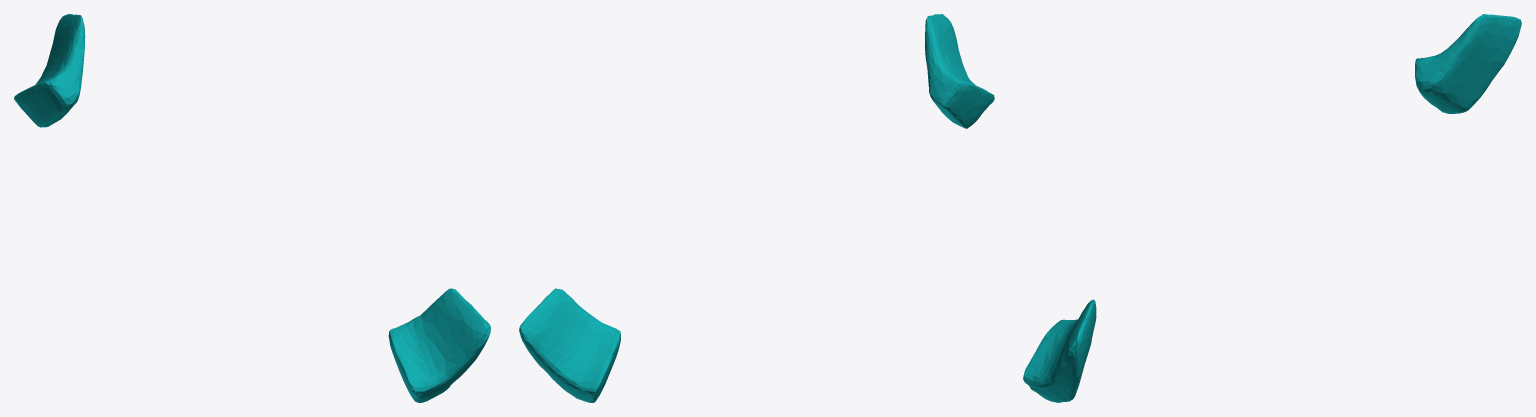
3 renders of one model, left to right at view 1: azimuth 30°, elevation 25°; view 2: azimuth 150°, elevation 25°; view 3: azimuth 330°, elevation 25°, orthographic. The views are drawn at different scales.
Visible parts, largest first — view 1: 1027.obj; view 2: 1027.obj; view 3: 1027.obj.
Boxes of the visible parts, box(x1,y1,x2,y2) form: 1027.obj: box(14, 14, 490, 402); 1027.obj: box(519, 14, 994, 402); 1027.obj: box(1023, 14, 1521, 402).
Bounding box in the file's own units: 857 × 1305 × 9661.
